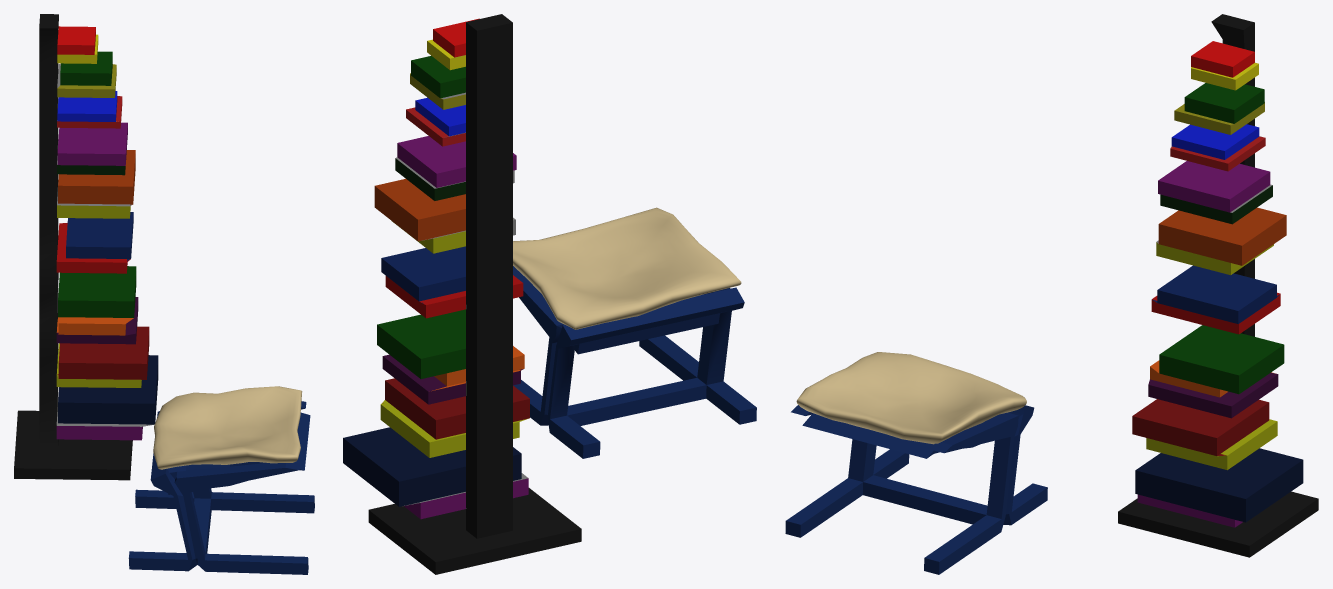
File: BookNookSet.dae
3 views of the same model, side by side, from view 1: azimuth 30°, elevation 25°; view 2: azimuth 150°, elevation 25°; view 3: azimuth 270°, elevation 25° (orthographic). The views are drawn at different scales.
Visible parts, largest first — view 1: polySurface330; view 2: polySurface330; view 3: polySurface330.
Part boxes in pixels (x1,y1,x2,y2): polySurface330: (14, 14, 314, 574); polySurface330: (343, 14, 756, 574); polySurface330: (785, 14, 1318, 574).
Bounding box in the file's own units: 10.84 × 21.58 × 21.5.
